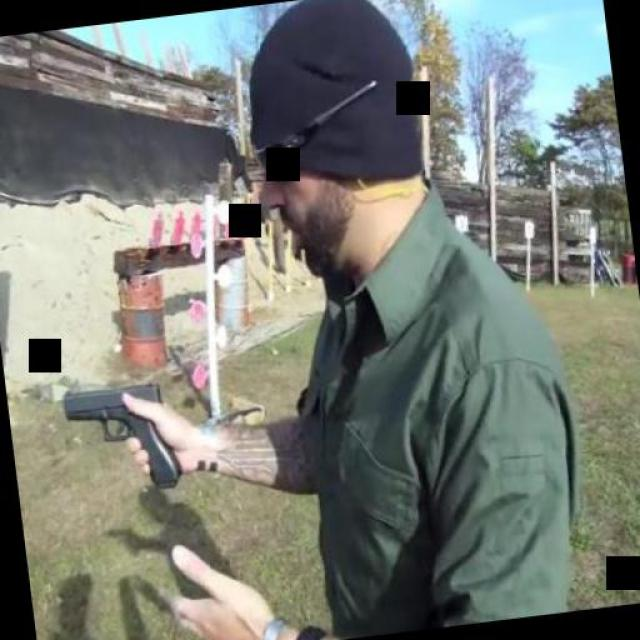gun: (57, 374, 185, 498)
